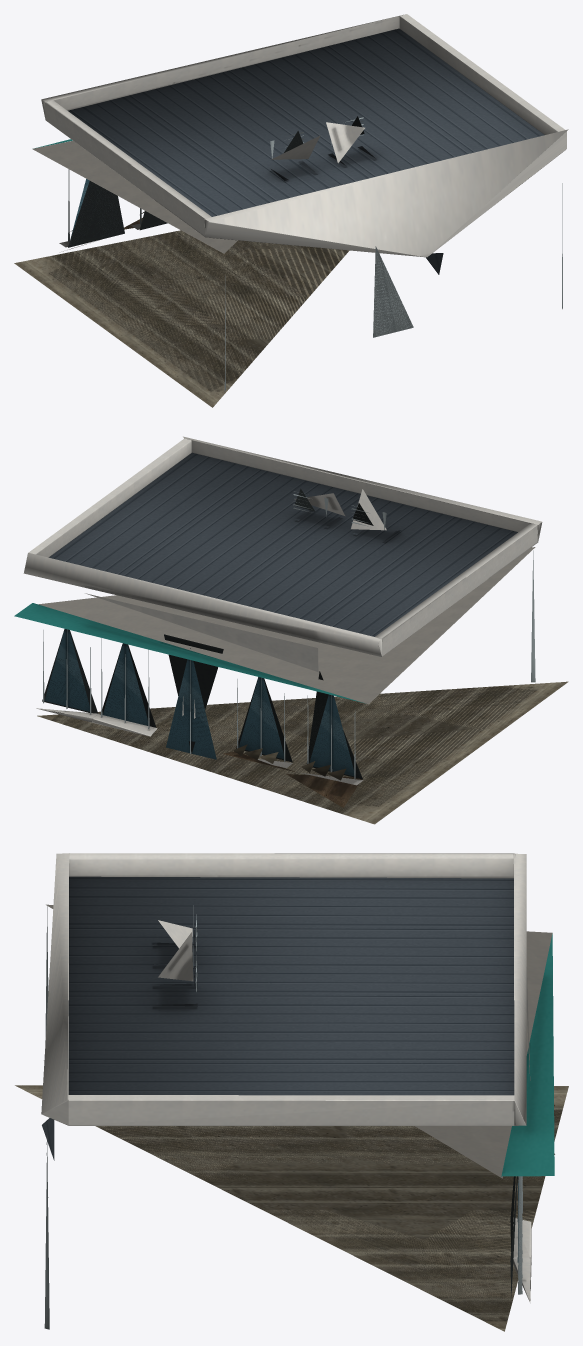
Rendered from shop_005.lod2.obj.
The picture shows the model from 3 angles, top to bottom: view 1: azimuth 30°, elevation 25°; view 2: azimuth 150°, elevation 25°; view 3: azimuth 270°, elevation 25°; orthographic projection. The views are drawn at different scales.
Visible parts, largest first — view 1: shop_005; view 2: shop_005; view 3: shop_005.
Part boxes in pixels (x1,y1,x2,y2): shop_005: (14, 14, 568, 407); shop_005: (14, 436, 568, 824); shop_005: (15, 853, 568, 1331).
Size of the model in its own units: 7.75 by 3.88 by 7.1.
1 material, 1 textured.
